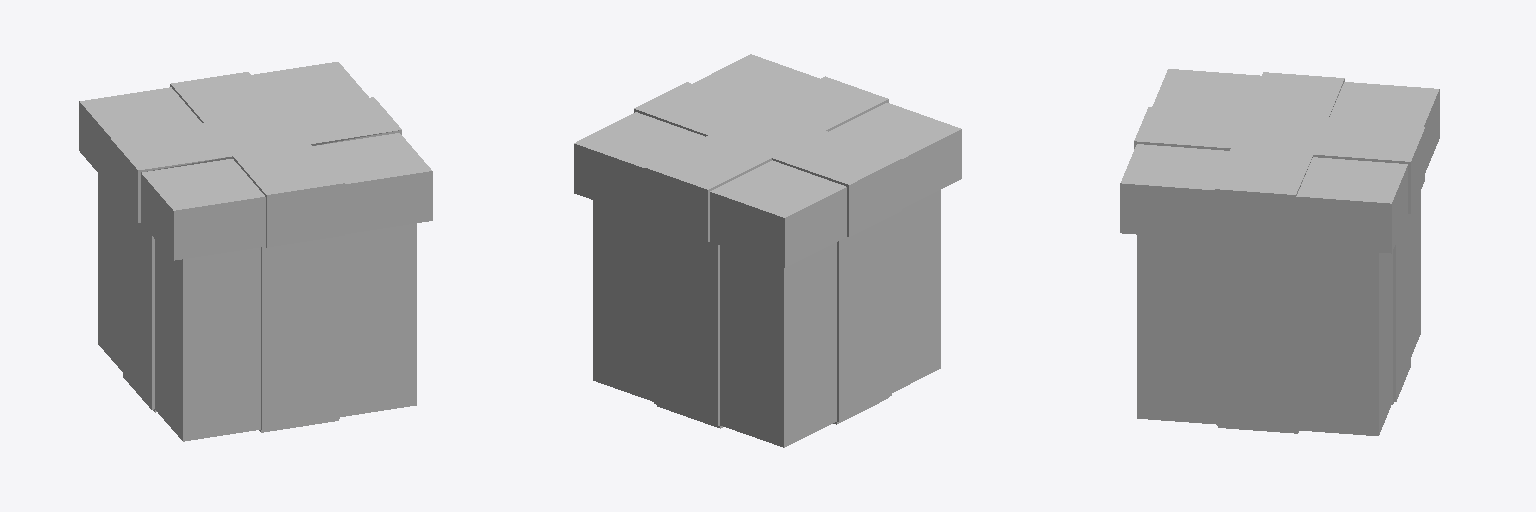
3 renders of one model, left to right at view 1: azimuth 30°, elevation 25°; view 2: azimuth 150°, elevation 25°; view 3: azimuth 270°, elevation 25°, orthographic.
Parts seen in each view (by area): view 1: Caixa_1_Cube.001, Tampa_1_Plane.003; view 2: Caixa_1_Cube.001, Tampa_1_Plane.003; view 3: Caixa_1_Cube.001, Tampa_1_Plane.003.
Part boxes in pixels (x1,y1,x2,y2): Caixa_1_Cube.001: (98,174,416,441); Tampa_1_Plane.003: (79,62,432,260); Caixa_1_Cube.001: (593,190,940,447); Tampa_1_Plane.003: (574,54,961,267); Caixa_1_Cube.001: (1137,191,1420,435); Tampa_1_Plane.003: (1120,69,1439,253).
Size of the model in its own units: 1.16 by 0.9796 by 1.16.